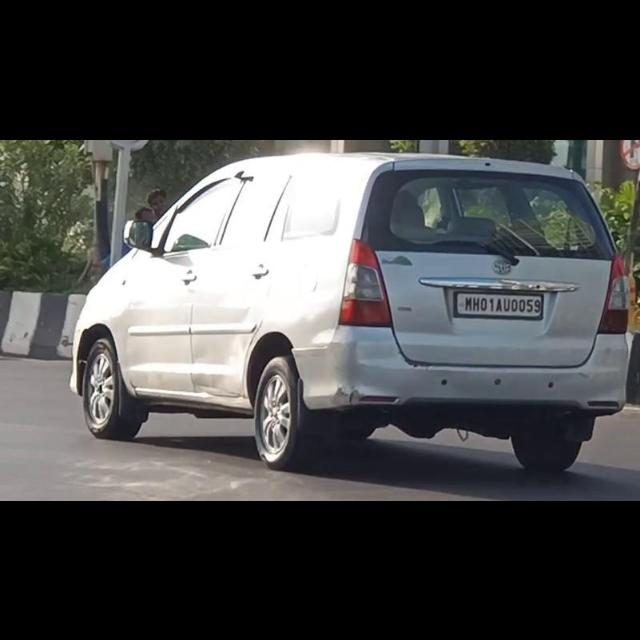number-plate: (451, 285, 543, 320)
vehicles: (70, 143, 628, 480)
